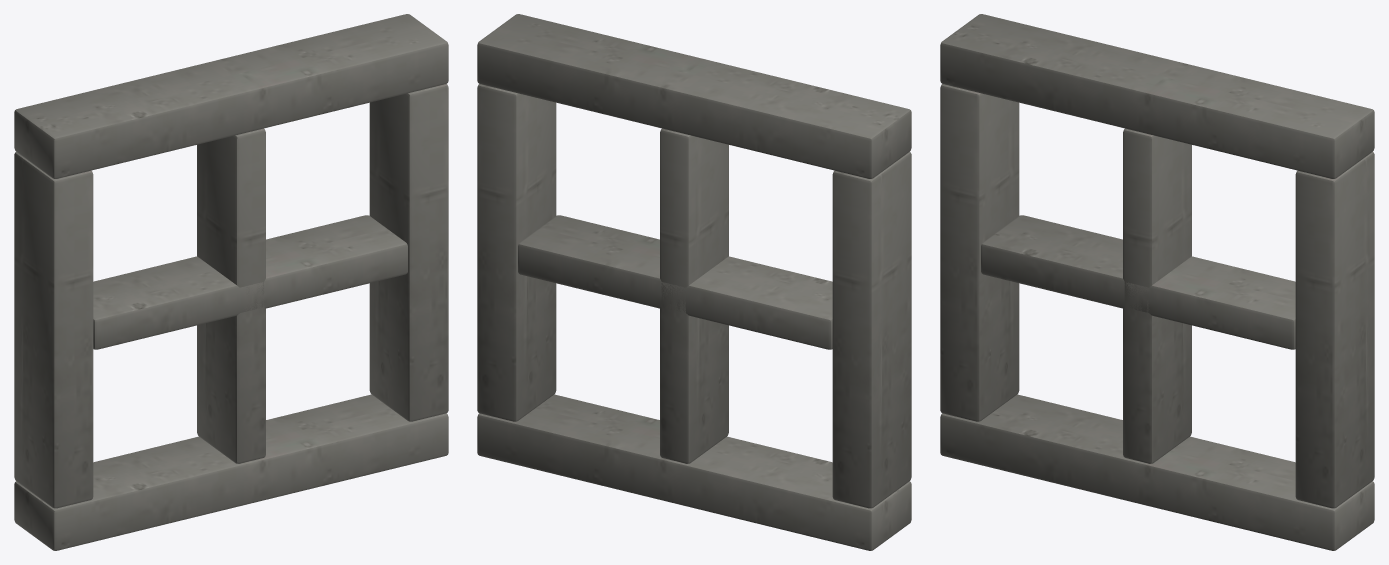
The model's file is ALV-CEL-003.glb.
3 views of the same model, side by side, from view 1: azimuth 30°, elevation 25°; view 2: azimuth 150°, elevation 25°; view 3: azimuth 330°, elevation 25° (orthographic).
Visible parts, largest first — view 1: ALV-CEL-003_m2, ALV-CEL-003_m1, ALV-CEL-003_m3, ALV-CEL-003_m4, ALV-CEL-003_cv, ALV-CEL-003_ch; view 2: ALV-CEL-003_m2, ALV-CEL-003_m1, ALV-CEL-003_m3, ALV-CEL-003_m4, ALV-CEL-003_cv, ALV-CEL-003_ch; view 3: ALV-CEL-003_m2, ALV-CEL-003_m1, ALV-CEL-003_m4, ALV-CEL-003_m3, ALV-CEL-003_cv, ALV-CEL-003_ch.
Part boxes in pixels (<box>): ALV-CEL-003_m2: <box>14,14,448,178</box>; ALV-CEL-003_m1: <box>14,394,448,550</box>; ALV-CEL-003_m3: <box>14,152,93,508</box>; ALV-CEL-003_m4: <box>369,84,448,421</box>; ALV-CEL-003_cv: <box>197,128,265,463</box>; ALV-CEL-003_ch: <box>93,215,407,349</box>; ALV-CEL-003_m2: <box>477,14,911,178</box>; ALV-CEL-003_m1: <box>477,394,911,550</box>; ALV-CEL-003_m3: <box>832,152,911,508</box>; ALV-CEL-003_m4: <box>477,84,556,421</box>; ALV-CEL-003_cv: <box>660,128,728,463</box>; ALV-CEL-003_ch: <box>518,215,832,349</box>; ALV-CEL-003_m2: <box>940,14,1374,178</box>; ALV-CEL-003_m1: <box>940,394,1374,550</box>; ALV-CEL-003_m4: <box>1295,152,1374,508</box>; ALV-CEL-003_m3: <box>940,84,1019,421</box>; ALV-CEL-003_cv: <box>1123,128,1191,463</box>; ALV-CEL-003_ch: <box>981,215,1295,349</box>.
Size of the model in its own units: 0.39 by 0.39 by 0.07.
Materials: 1 (1 with a texture image).
